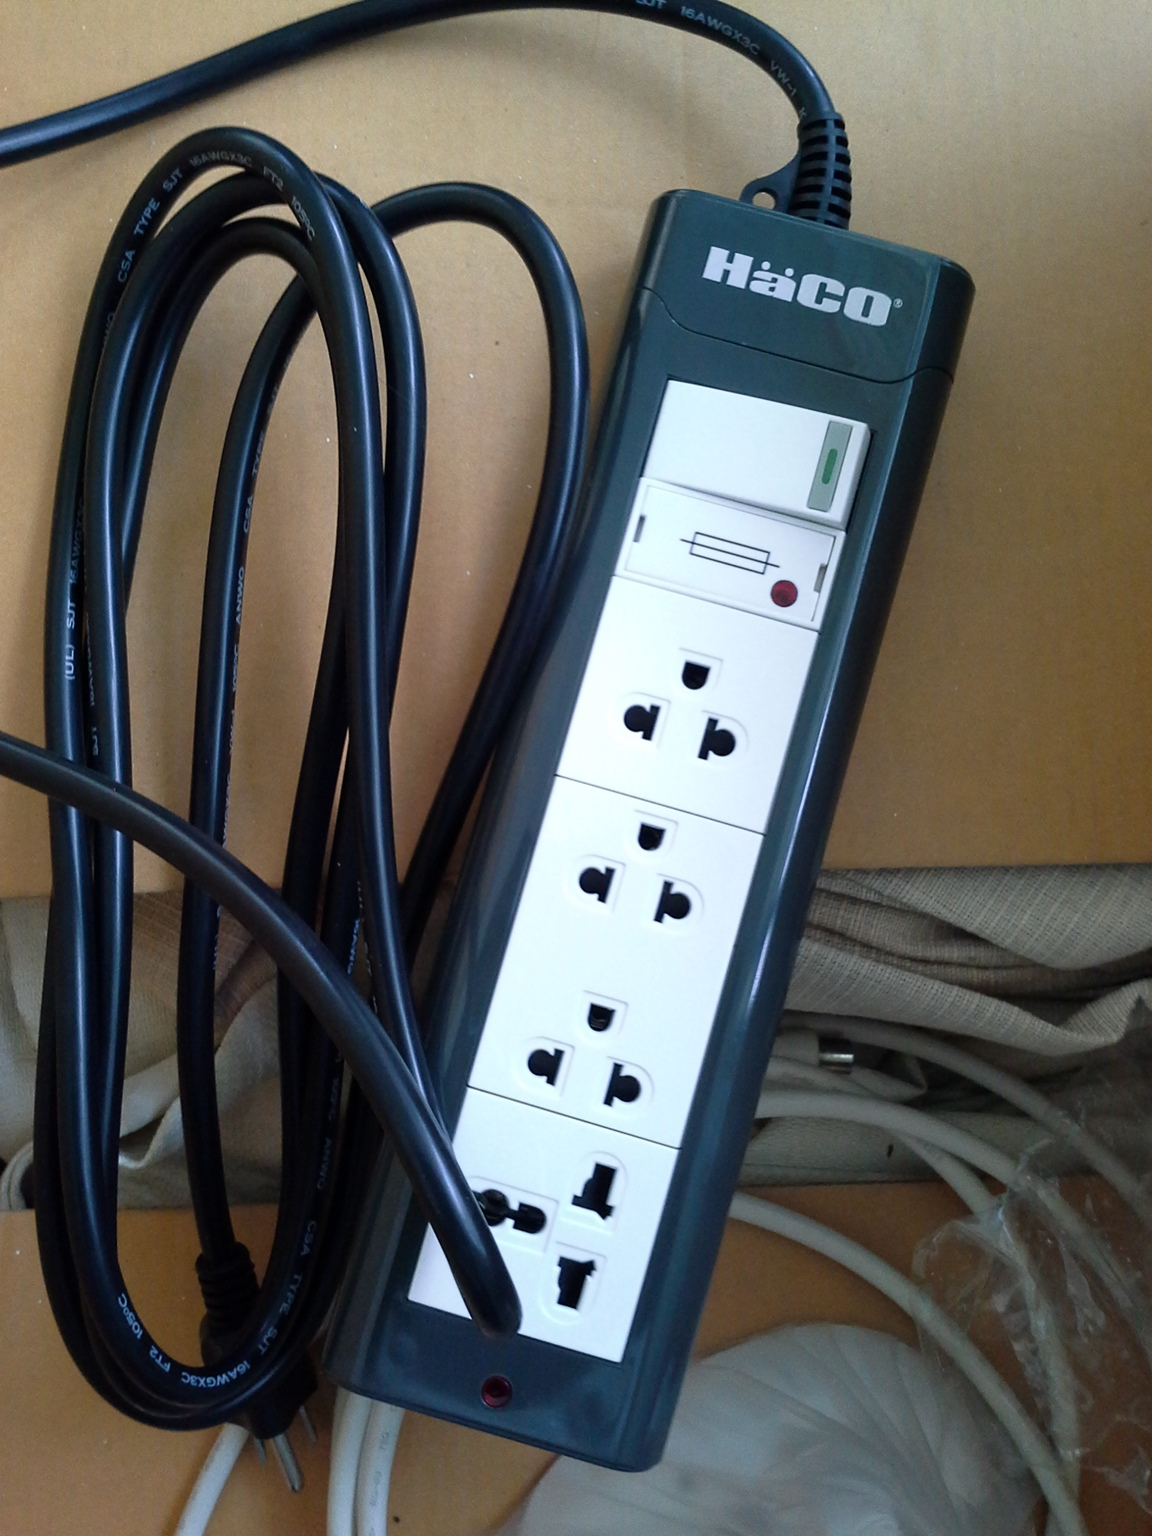Three_eye_plug: (313, 174, 972, 1483)
